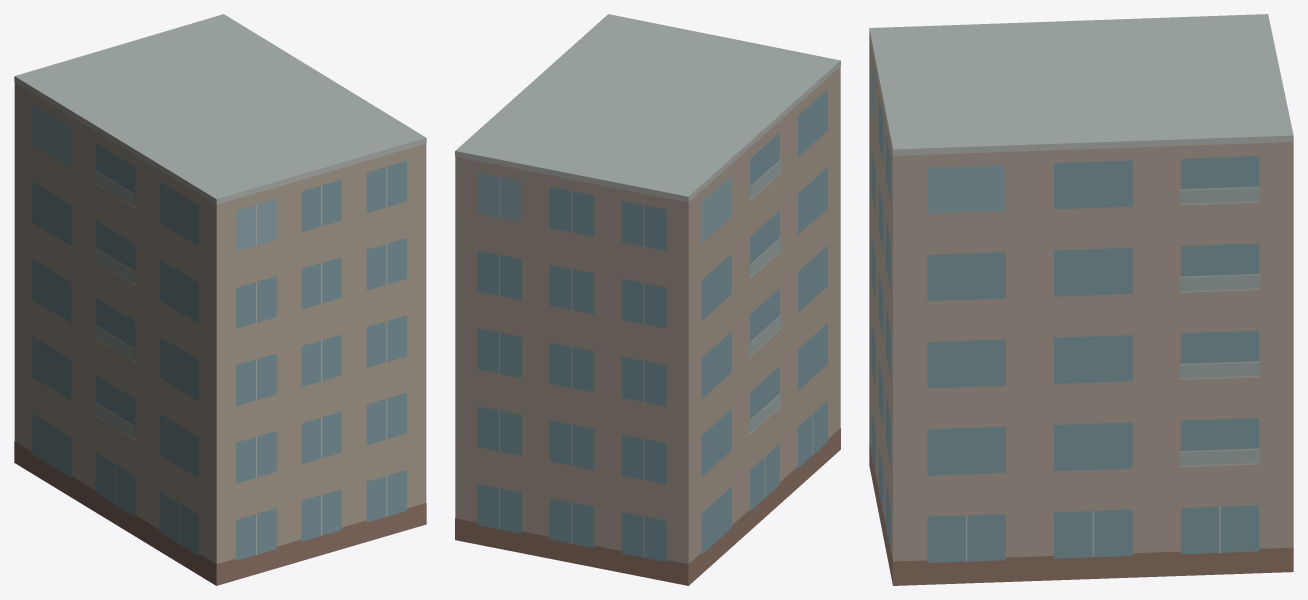
The model's file is survey-upis-32539523.glb.
The picture shows the model from 3 angles, left to right: view 1: azimuth 30°, elevation 25°; view 2: azimuth 150°, elevation 25°; view 3: azimuth 270°, elevation 25°; orthographic projection. The views are drawn at different scales.
Visible parts, largest first — view 1: survey-upis-32539523.tmp; view 2: survey-upis-32539523.tmp; view 3: survey-upis-32539523.tmp.
Boxes of the visible parts, bbox=[...] form: survey-upis-32539523.tmp: bbox=[14, 14, 426, 585]; survey-upis-32539523.tmp: bbox=[455, 14, 840, 585]; survey-upis-32539523.tmp: bbox=[869, 14, 1293, 585].
Size of the model in its own units: 11.09 by 16.65 by 14.68.
